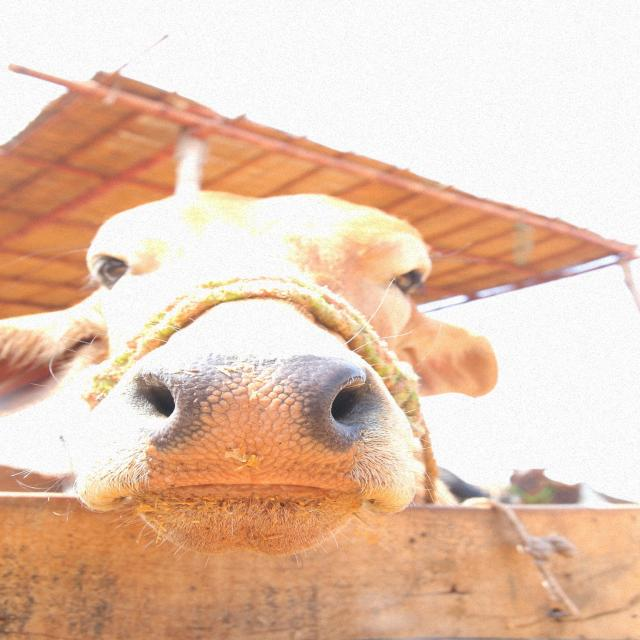muzzles: (132, 355, 389, 501)
